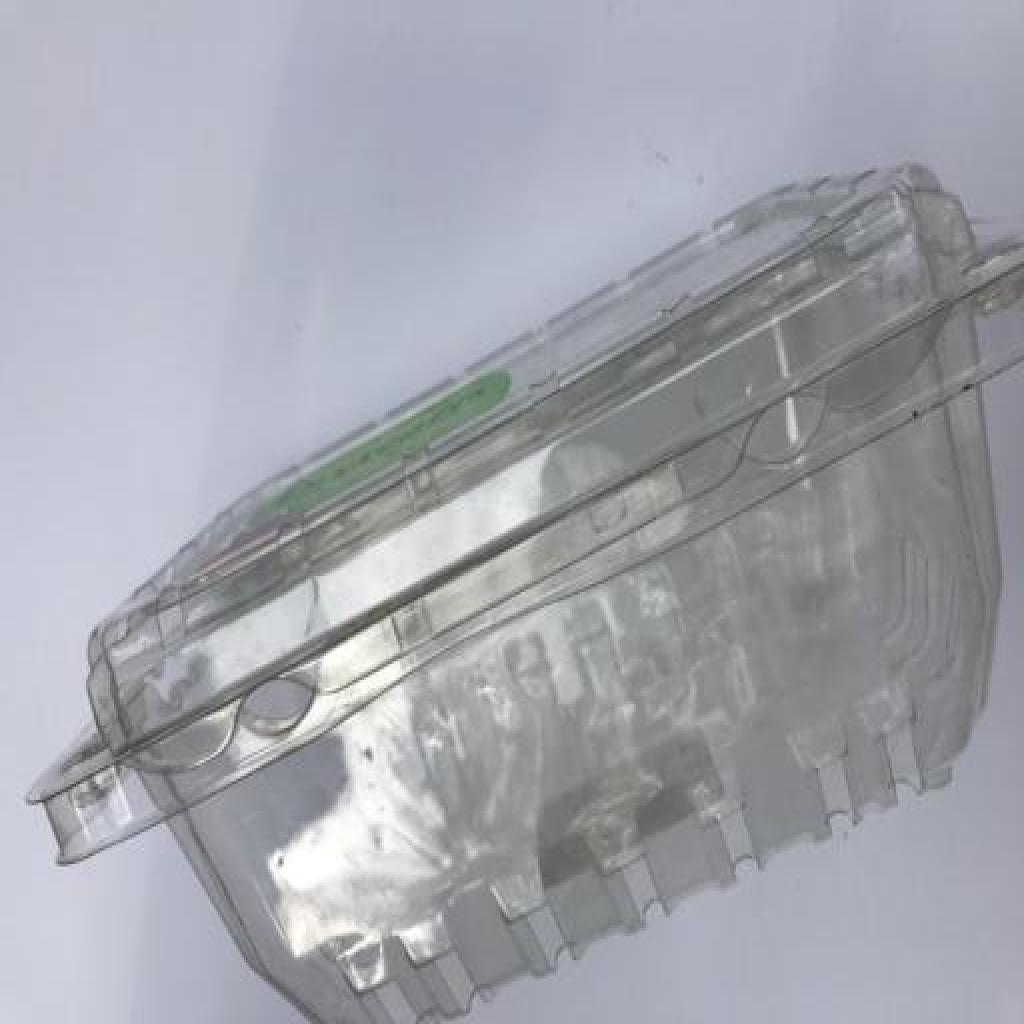organico: (25, 147, 1020, 1024)
